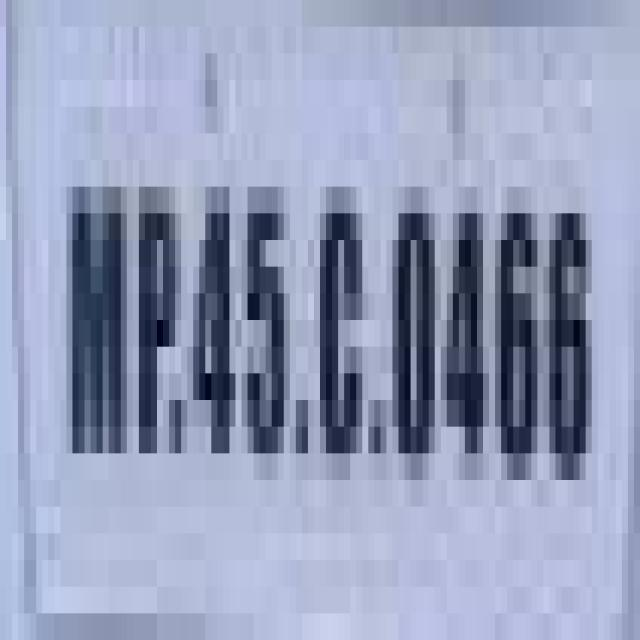license_plate: (30, 0, 640, 613)
